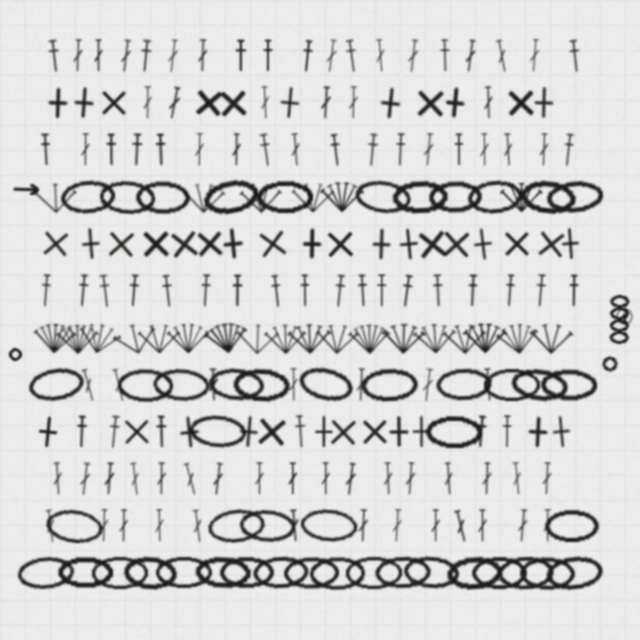chain: (295, 362, 357, 407), (200, 175, 261, 218), (26, 364, 87, 405), (509, 365, 569, 405), (44, 506, 104, 546), (206, 506, 267, 545), (353, 177, 412, 217), (544, 553, 604, 592), (518, 177, 577, 216), (16, 554, 76, 592), (545, 178, 604, 216), (188, 413, 248, 450), (207, 366, 266, 403), (299, 507, 358, 544), (402, 554, 461, 591), (445, 554, 503, 591), (152, 367, 211, 403), (59, 178, 116, 215), (466, 178, 523, 215), (122, 554, 179, 591), (98, 179, 156, 215), (238, 508, 296, 544), (232, 367, 290, 402), (360, 367, 418, 402), (435, 367, 493, 402), (252, 555, 310, 590), (497, 555, 555, 590), (391, 179, 448, 214), (194, 555, 251, 590), (374, 555, 431, 590), (540, 368, 597, 402), (309, 556, 366, 590), (519, 556, 576, 590), (483, 368, 541, 401), (91, 556, 149, 589), (155, 556, 213, 589), (135, 180, 191, 214), (117, 368, 173, 402), (283, 556, 339, 590), (256, 180, 313, 213), (425, 415, 482, 448), (345, 556, 402, 589), (471, 556, 528, 589), (428, 180, 483, 214), (544, 509, 600, 542), (57, 556, 113, 589), (219, 556, 275, 589)
double: (79, 368, 98, 402), (181, 462, 200, 496), (110, 368, 128, 402), (452, 509, 470, 543), (166, 86, 183, 120), (494, 39, 510, 73), (324, 39, 339, 73), (463, 39, 478, 73), (343, 462, 358, 496), (43, 509, 58, 543), (190, 509, 205, 543), (119, 39, 133, 73), (166, 39, 180, 73), (406, 39, 420, 73), (421, 368, 435, 402), (78, 462, 92, 496), (128, 462, 142, 496), (211, 462, 225, 496), (510, 462, 524, 495), (374, 39, 387, 72), (528, 39, 541, 72), (289, 133, 302, 166), (422, 133, 435, 166), (482, 368, 495, 401), (51, 462, 64, 495), (103, 462, 116, 495), (404, 462, 417, 495), (442, 462, 455, 495), (288, 509, 301, 542), (516, 509, 529, 542), (72, 39, 84, 72), (259, 86, 271, 119), (320, 86, 332, 119), (502, 133, 514, 166), (538, 133, 550, 166), (355, 368, 367, 401), (382, 462, 394, 495), (481, 462, 493, 495), (541, 462, 553, 495), (98, 509, 110, 542), (357, 509, 369, 542), (391, 509, 403, 542), (93, 39, 104, 72), (197, 39, 208, 72), (142, 86, 153, 119), (348, 86, 359, 119), (483, 86, 494, 119), (80, 133, 91, 166), (194, 133, 205, 166), (231, 133, 242, 166), (479, 133, 490, 166), (208, 368, 219, 401), (288, 368, 299, 401), (156, 462, 167, 495), (254, 462, 265, 495), (287, 462, 298, 495), (320, 462, 331, 495), (118, 509, 129, 542), (154, 509, 165, 542), (430, 509, 441, 542), (477, 509, 488, 542), (542, 509, 553, 542)
enseble_chain: (607, 294, 632, 346)
fan: (110, 317, 160, 359), (75, 317, 124, 358), (203, 318, 250, 357), (494, 319, 541, 357), (32, 320, 78, 355), (412, 320, 458, 355), (33, 180, 78, 214), (55, 321, 100, 355), (235, 321, 280, 355), (287, 321, 332, 355), (315, 321, 360, 355), (381, 321, 426, 355), (442, 321, 487, 355), (529, 321, 574, 355), (182, 180, 226, 214), (239, 180, 283, 214), (264, 321, 307, 355), (348, 321, 391, 355), (291, 180, 335, 213), (320, 180, 364, 213), (137, 321, 181, 354), (166, 321, 210, 354), (463, 321, 507, 354), (500, 180, 543, 213)
half_double: (343, 39, 360, 73), (257, 133, 274, 167), (46, 39, 62, 73), (567, 39, 583, 73), (97, 274, 113, 308), (399, 274, 415, 308), (106, 415, 122, 449), (138, 39, 153, 73), (300, 39, 315, 73), (328, 133, 343, 167), (365, 133, 380, 167), (561, 133, 576, 167), (160, 274, 175, 308), (269, 274, 284, 308), (332, 274, 347, 308), (533, 274, 548, 307), (293, 415, 308, 448), (130, 133, 144, 166), (39, 274, 53, 307), (76, 274, 90, 307), (127, 274, 141, 307), (431, 274, 445, 307), (503, 274, 517, 307), (474, 415, 488, 448), (234, 39, 247, 72), (39, 133, 52, 166), (154, 133, 167, 166), (394, 133, 407, 166), (199, 274, 212, 307), (231, 274, 244, 307), (356, 274, 369, 307), (375, 274, 388, 307), (466, 274, 479, 307), (75, 415, 88, 448), (155, 415, 168, 448), (262, 39, 274, 72), (439, 39, 451, 72), (105, 133, 117, 166), (453, 133, 465, 166), (299, 274, 311, 307), (568, 274, 580, 307), (501, 415, 513, 448)
noise: (614, 306, 634, 326), (600, 354, 619, 373), (12, 184, 41, 195), (8, 347, 23, 362)
single: (254, 225, 291, 262), (372, 85, 408, 121), (166, 226, 202, 262), (391, 226, 427, 262), (414, 226, 450, 262), (465, 226, 501, 262), (533, 226, 569, 262), (30, 414, 66, 450), (171, 414, 207, 450), (66, 85, 101, 120), (191, 85, 226, 120), (272, 85, 307, 120), (437, 85, 472, 120), (38, 226, 73, 261), (73, 226, 108, 261), (192, 226, 227, 261), (215, 226, 250, 261), (553, 226, 588, 261), (231, 414, 266, 449), (254, 414, 289, 449), (544, 414, 579, 449), (41, 86, 75, 120), (216, 86, 250, 120), (413, 86, 447, 120), (104, 227, 138, 261), (323, 227, 357, 261), (364, 227, 398, 261), (439, 227, 473, 261), (326, 415, 360, 449), (521, 415, 555, 449), (97, 86, 130, 119), (504, 86, 537, 119), (527, 86, 560, 119), (139, 227, 172, 260), (295, 227, 328, 260), (500, 227, 533, 260), (120, 415, 153, 448), (307, 415, 340, 448), (358, 415, 391, 448), (382, 415, 415, 448), (405, 415, 438, 448)
